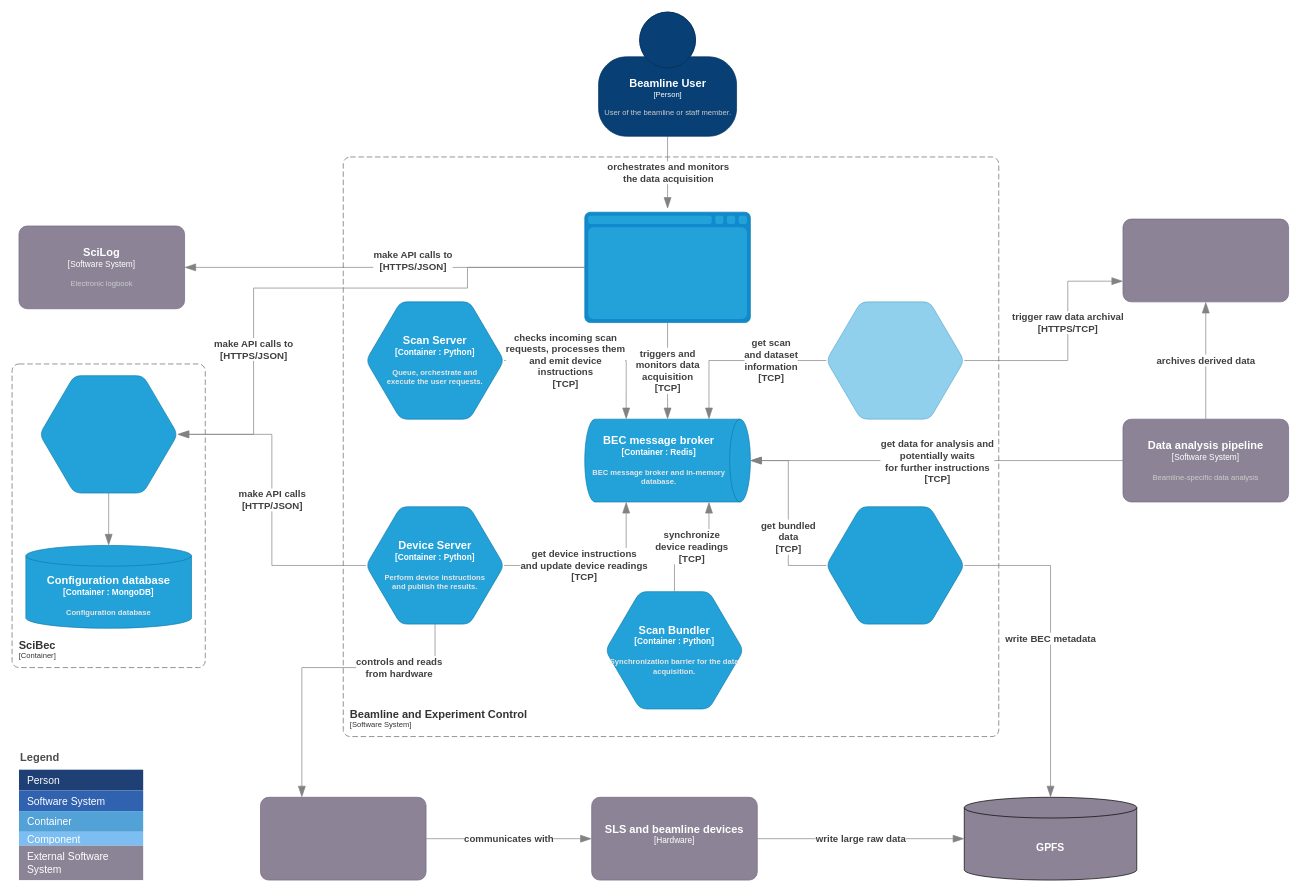
This 1301x892 diagram has some shape labels left out. The shapes that lost their labels are listed below. From the top down, each one's centre as x and y in pixels, then its label:
point (667, 267): Command-line interface (CLI) [Container : IPython]
point (1205, 260): SciCat [Software System] Data catalogue and archiving
point (895, 360): SciCat connector [Container : Python] SciCat connector
point (108, 434): SciBec [Container : Loopback 4] API server for configuration management.
point (895, 565): File Writer [Container : Python] NeXus file writer
point (343, 838): Control layer [Software System] EPICS, custom implementations...
